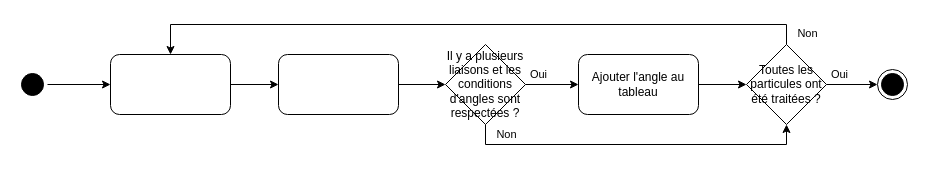
This 925x170 diagram has some shape labels left out. The shapes that lost their labels are listed below. From the top down, each one's centre as x and y in pixels, then its label:
At pixel 170 84: "Choisir une particule".
At pixel 338 84: "Déterminer ses liaisons".
